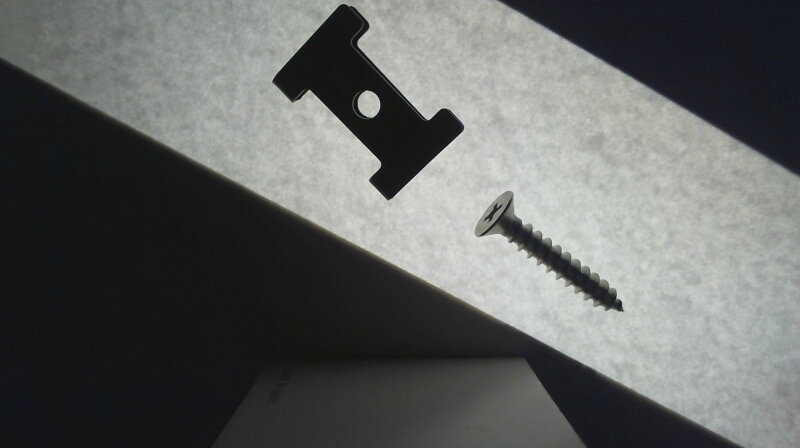O002: (270, 3, 464, 202)
S001: (471, 188, 626, 315)
